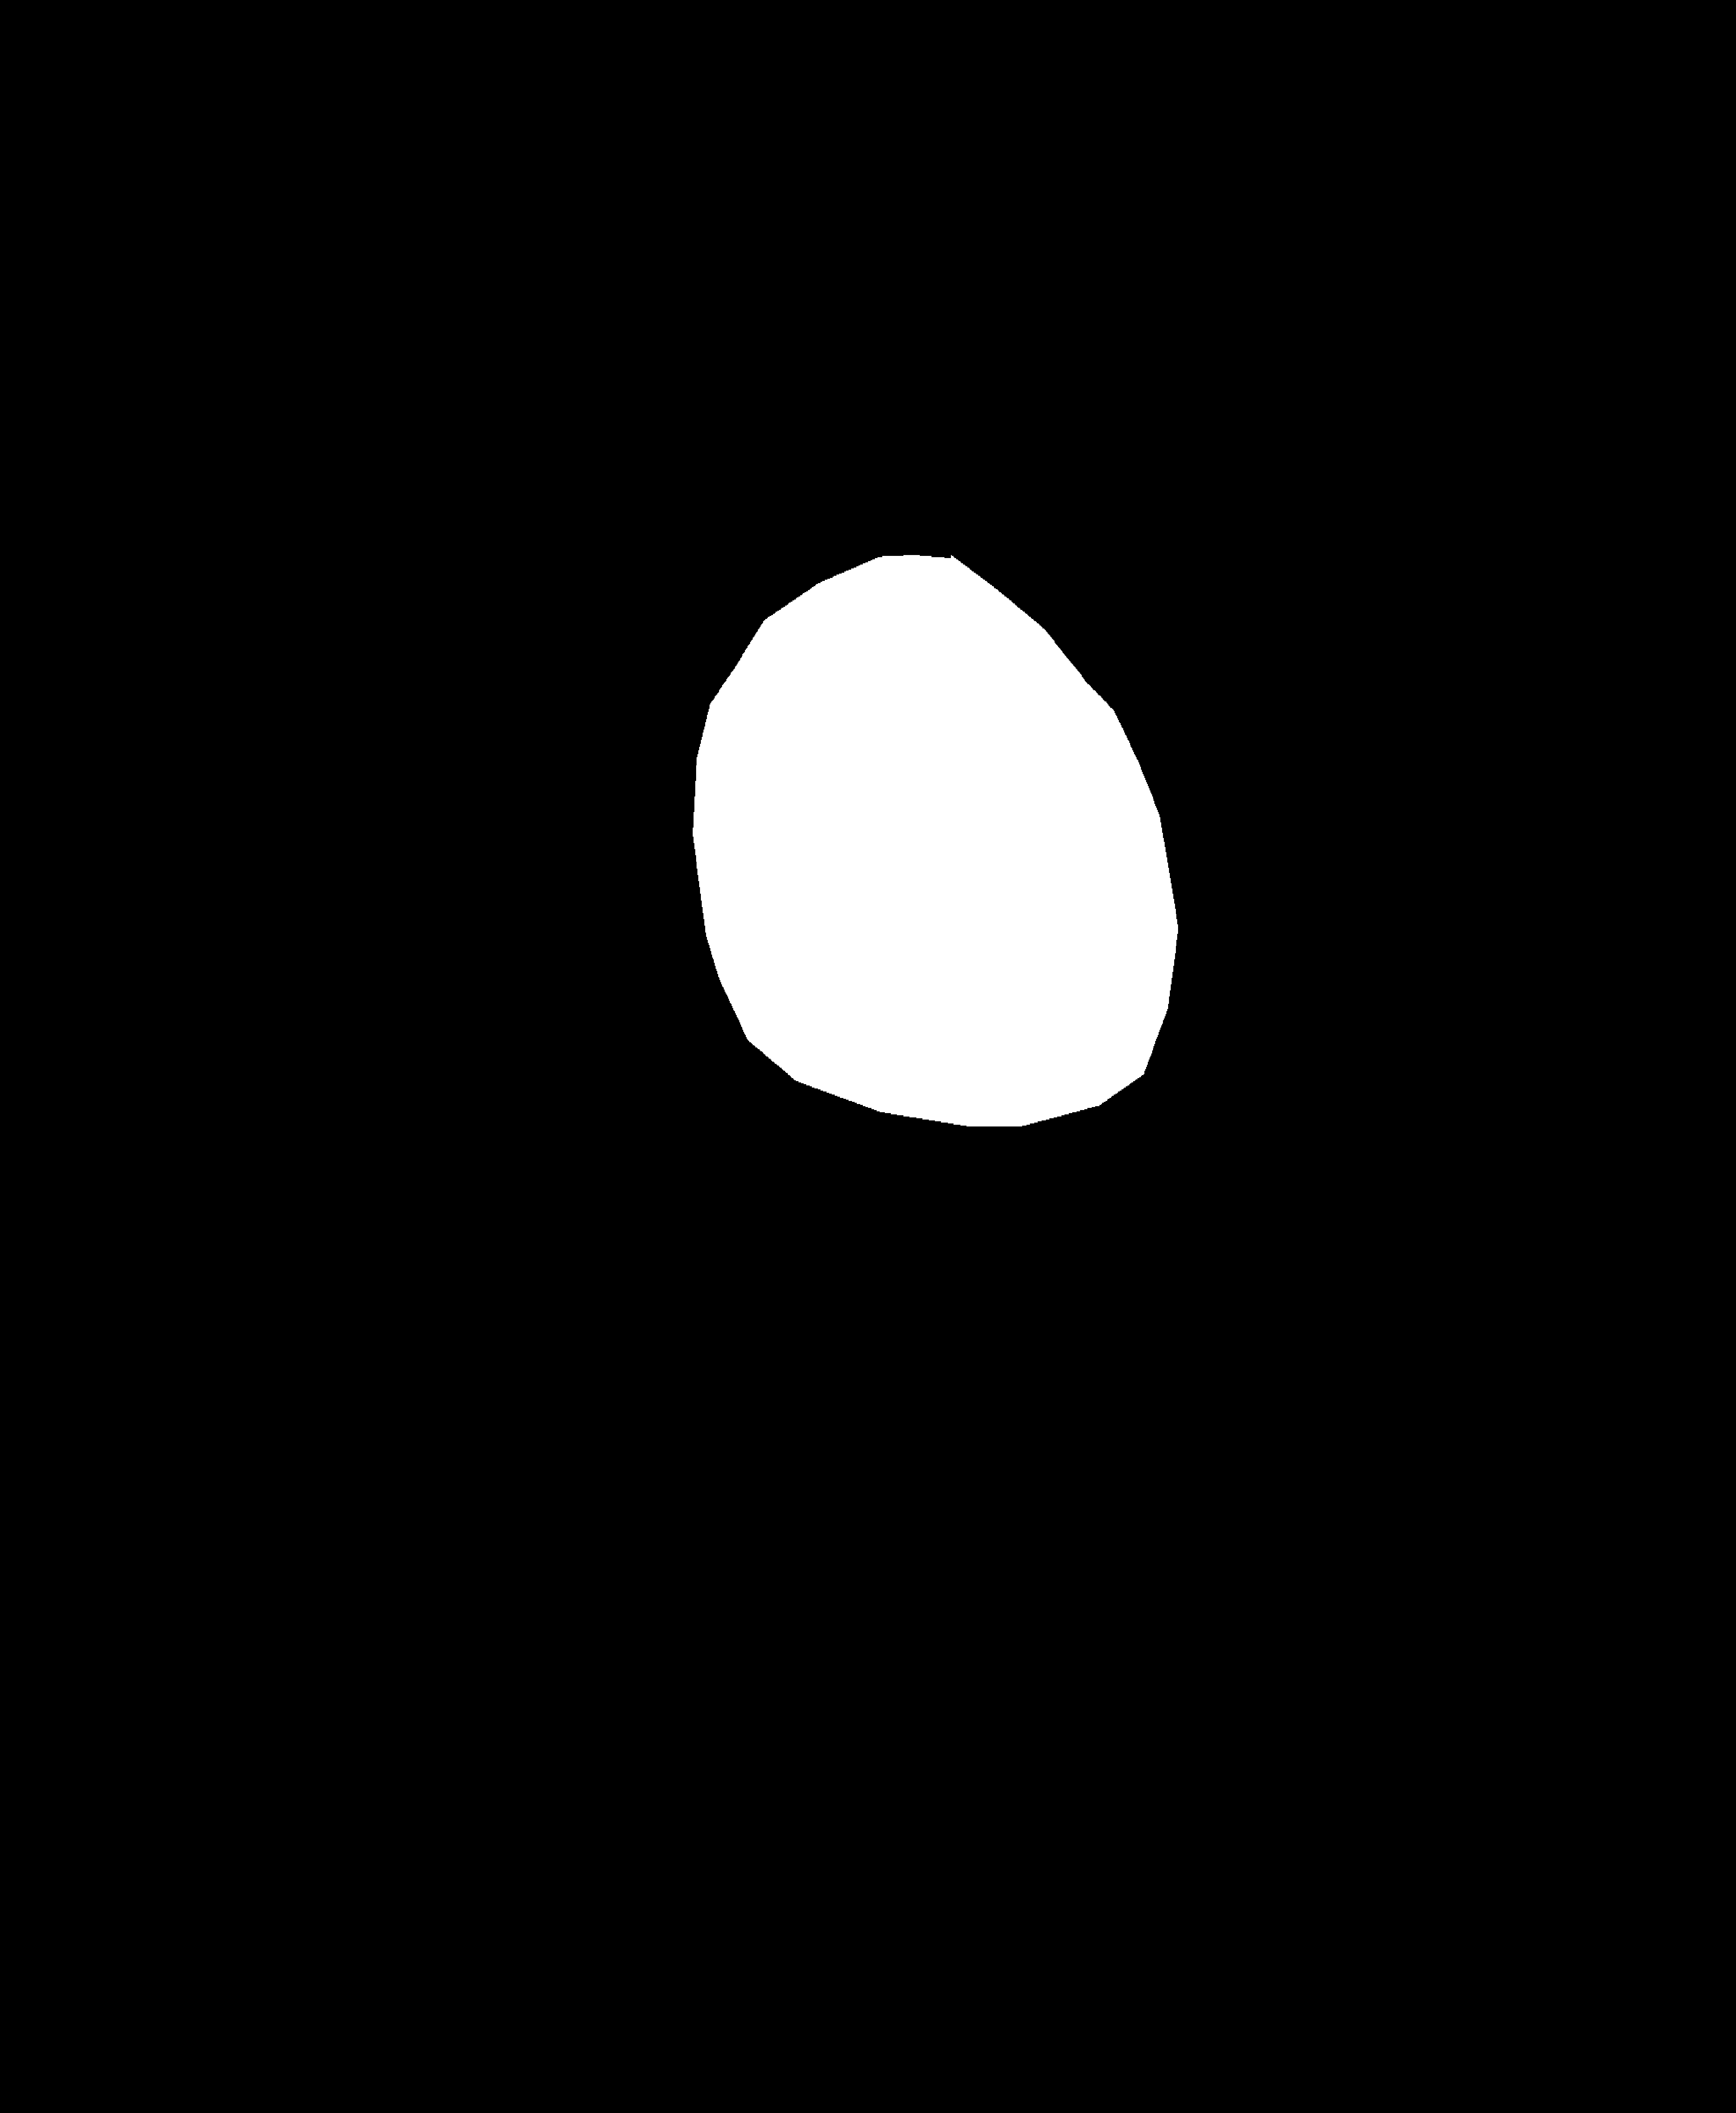heart: (693, 565, 1173, 1123)
left_lung: (335, 119, 806, 1257)
right_lung: (937, 95, 1374, 1250)
